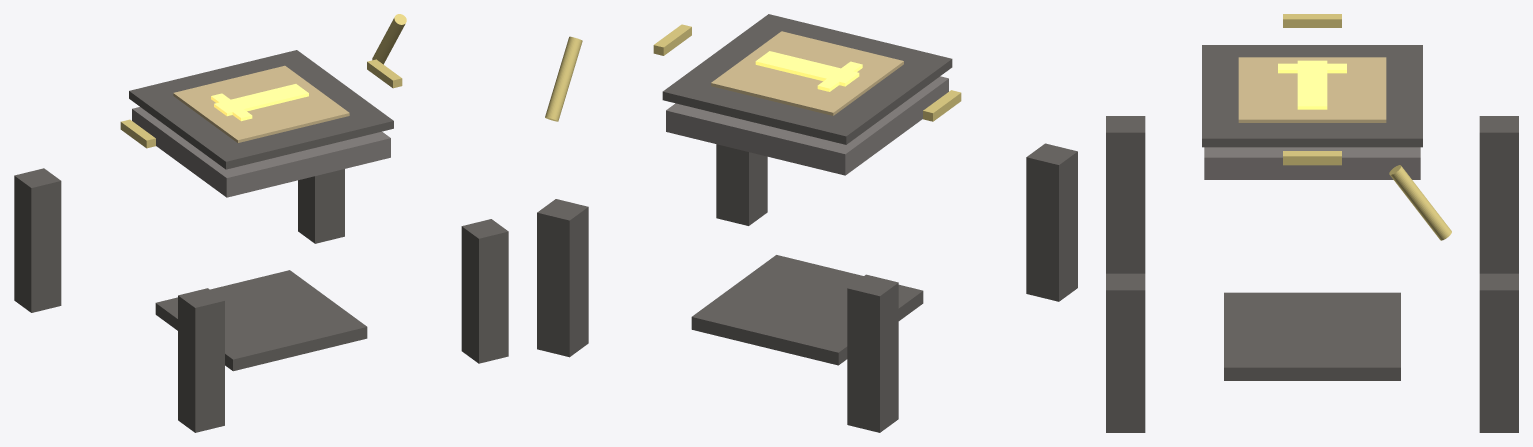
The model's file is casting_table.glb.
3 renders of one model, left to right at view 1: azimuth 30°, elevation 25°; view 2: azimuth 150°, elevation 25°; view 3: azimuth 270°, elevation 25°, orthographic. The views are drawn at different scales.
Visible parts, largest first — view 1: Cube.006, Cube.004, Cube.005, Cube.001, Cube.002, Cube, Cube.007, Cube.003, Cube.008, Cylinder, Cube.010, Cube.011; view 2: Cube.006, Cube.004, Cube.005, Cube.002, Cube, Cube.003, Cube.007, Cube.001, Cube.008, Cylinder, Cube.010, Cube.011; view 3: Cube.004, Cube.006, Cube.007, Cube.001, Cube.003, Cube, Cube.002, Cube.005, Cube.008, Cylinder, Cube.011, Cube.010 (+1 smaller).
Part boxes in pixels (x1,y1,x2,y2): Cube.006: (129,50,393,169); Cube.004: (155,270,367,371); Cube.005: (132,107,390,197); Cube.001: (461,219,508,363); Cube.002: (14,168,61,312); Cube: (178,288,224,432); Cube.007: (173,65,349,142); Cube.003: (298,169,344,243); Cube.008: (214,84,308,116); Cylinder: (372,14,406,64); Cube.010: (120,119,155,148); Cube.011: (367,59,402,88); Cube.006: (662,14,952,144); Cube.004: (691,255,923,365); Cube.005: (666,76,948,175); Cube.002: (847,274,898,432); Cube: (1026,143,1077,301); Cube.003: (537,199,588,357); Cube.007: (711,31,903,115); Cube.001: (716,144,767,225); Cube.008: (755,51,859,86); Cylinder: (545,36,582,121); Cube.010: (923,90,961,121); Cube.011: (653,24,691,55); Cube.004: (1224,292,1400,380); Cube.006: (1202,45,1422,147); Cube.007: (1238,57,1386,122); Cube.001: (1106,273,1145,432); Cube.003: (1479,273,1518,432); Cube: (1106,116,1145,273); Cube.002: (1479,116,1518,273); Cube.005: (1204,147,1420,179); Cube.008: (1297,60,1327,109); Cylinder: (1389,165,1451,240); Cube.011: (1283,151,1341,165); Cube.010: (1283,14,1341,27).
Bounding box in the file's own units: 0.905 × 0.6223 × 0.84.
